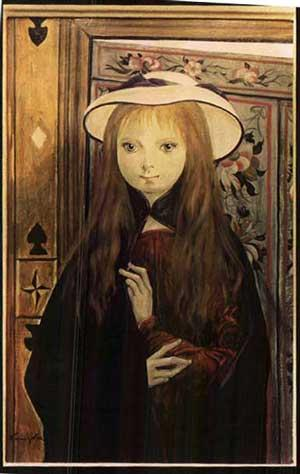person: (29, 69, 275, 471)
